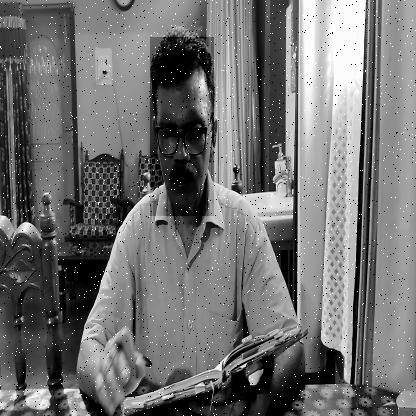Normal: (150, 37, 214, 216)
